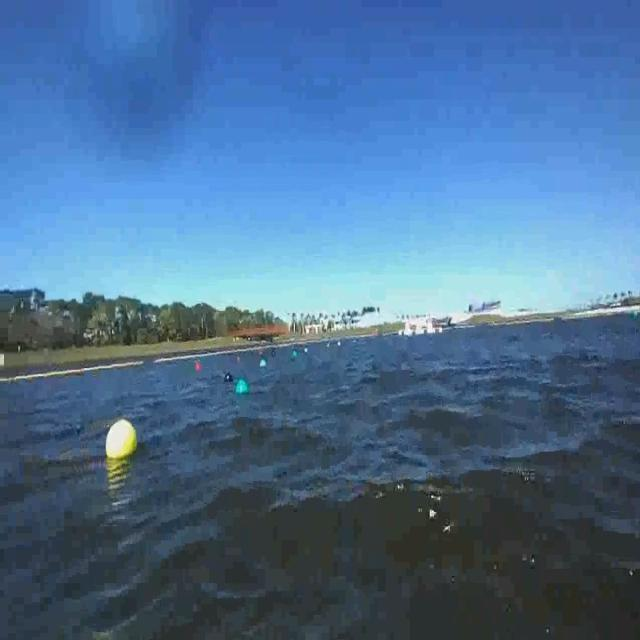black-buoy: (223, 372, 232, 386)
green-buoy: (237, 379, 250, 397)
red-buoy: (195, 363, 202, 374)
yellow-buoy: (106, 420, 138, 460)
